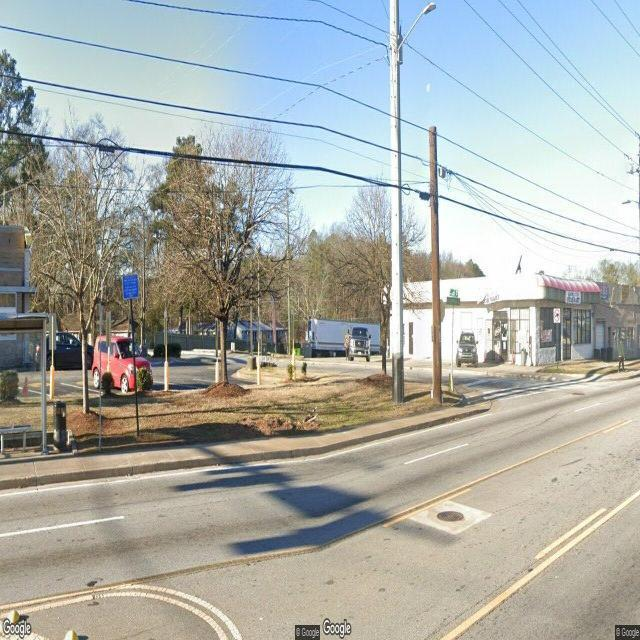seating: (0, 425, 33, 456)
shelter: (0, 311, 53, 464)
trash_can: (55, 401, 67, 451)
